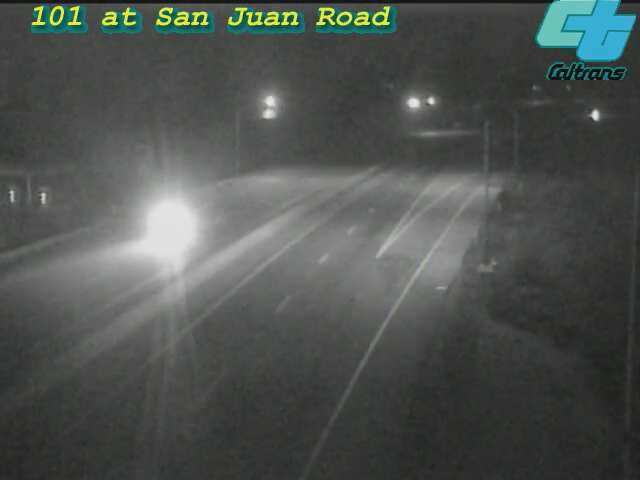vehicle: (115, 192, 195, 272), (568, 91, 618, 141)
